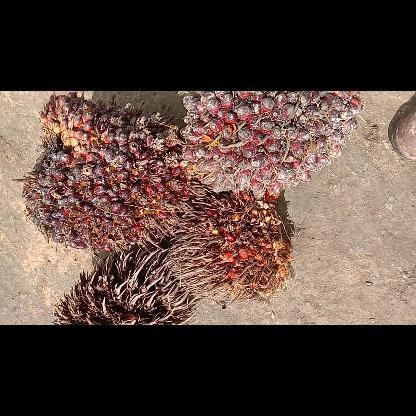Janjang kosong: (47, 246, 200, 324)
Kurang masak: (176, 92, 366, 196)
TBS masak: (15, 93, 207, 251)
Terlalu masak: (172, 190, 292, 308)
